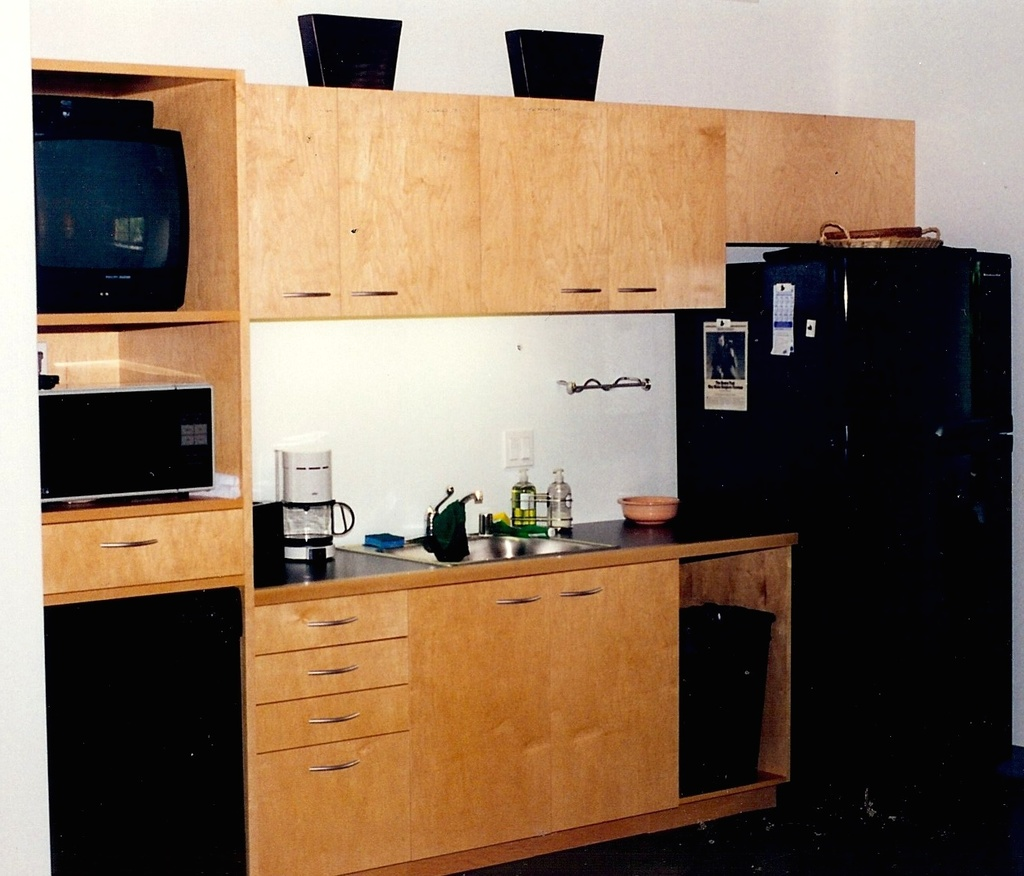cabinet door: (418, 594, 543, 840), (554, 574, 676, 796), (351, 94, 478, 307), (476, 96, 606, 302), (606, 106, 722, 303), (251, 83, 342, 303), (267, 752, 407, 858), (47, 516, 241, 578), (265, 602, 402, 651), (268, 653, 404, 691), (270, 694, 406, 732)
handle: (102, 524, 154, 552), (310, 652, 354, 684), (350, 287, 401, 313), (306, 606, 358, 629), (285, 285, 331, 310), (314, 709, 358, 734), (558, 280, 604, 302), (311, 756, 360, 776), (493, 595, 542, 614), (557, 582, 596, 603), (614, 277, 653, 294)
refrigerator door: (849, 433, 1020, 805), (846, 265, 1014, 428)
